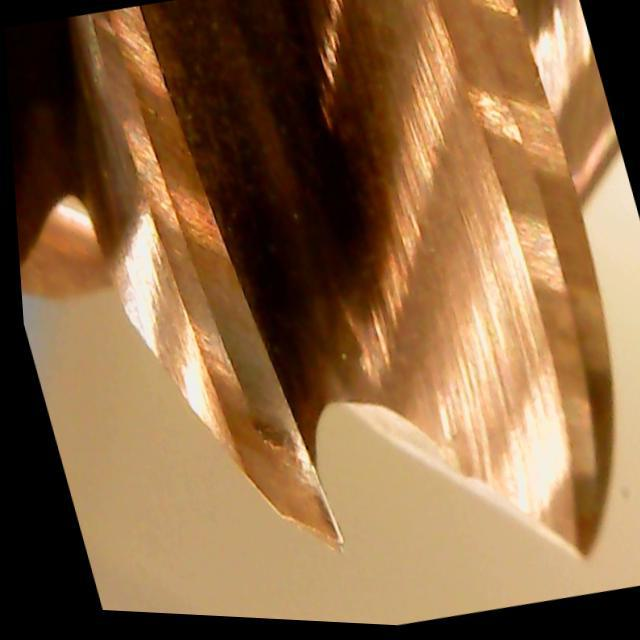Tool-wear-class-0: (150, 242, 359, 577)
